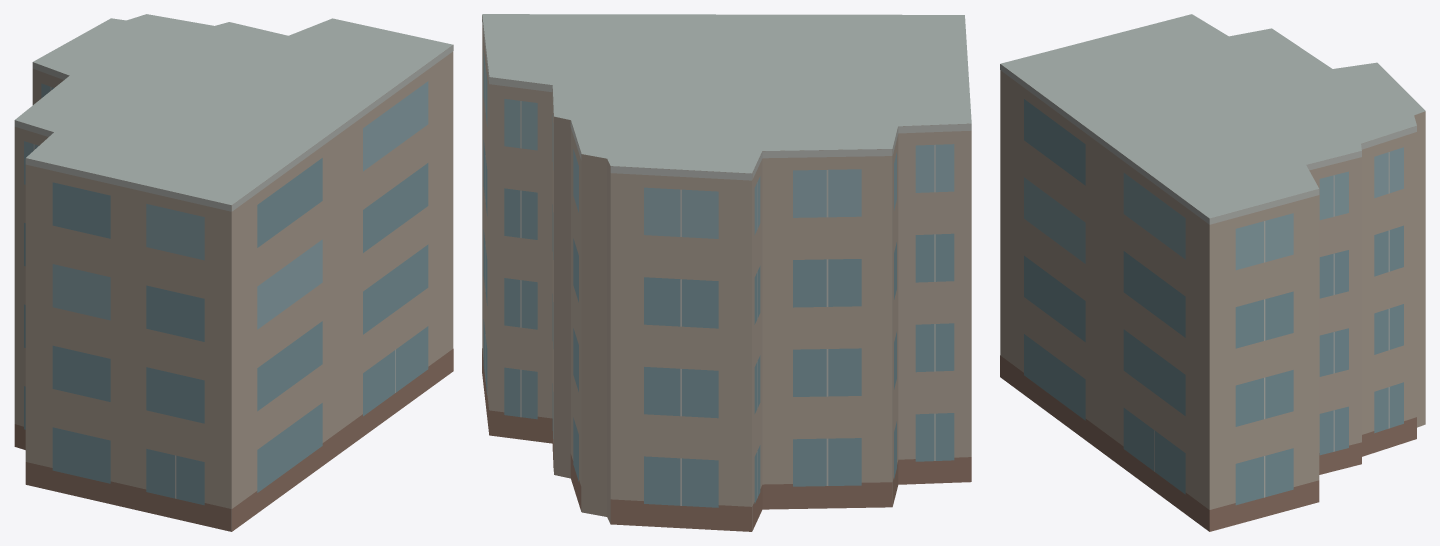
File: survey-upis-32952093.glb
The picture shows the model from 3 angles, left to right: view 1: azimuth 30°, elevation 25°; view 2: azimuth 150°, elevation 25°; view 3: azimuth 270°, elevation 25°; orthographic projection. The views are drawn at different scales.
Visible parts, largest first — view 1: survey-upis-32952093.tmp; view 2: survey-upis-32952093.tmp; view 3: survey-upis-32952093.tmp.
Boxes of the visible parts, bbox=[...] form: survey-upis-32952093.tmp: bbox=[14, 14, 453, 531]; survey-upis-32952093.tmp: bbox=[482, 14, 971, 531]; survey-upis-32952093.tmp: bbox=[1000, 14, 1425, 531].
Size of the model in its own units: 17.09 by 12.2 by 15.03.
